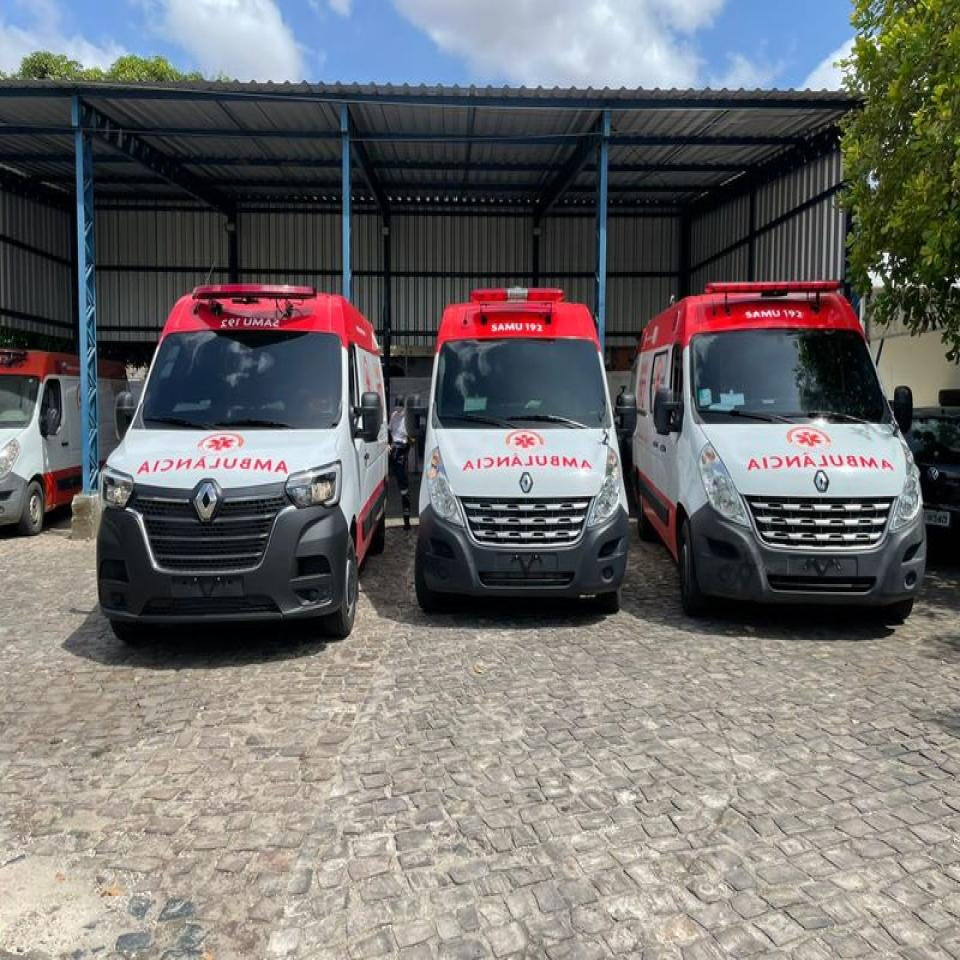bombeiro: (92, 281, 397, 645), (630, 276, 931, 634), (410, 284, 635, 618)
